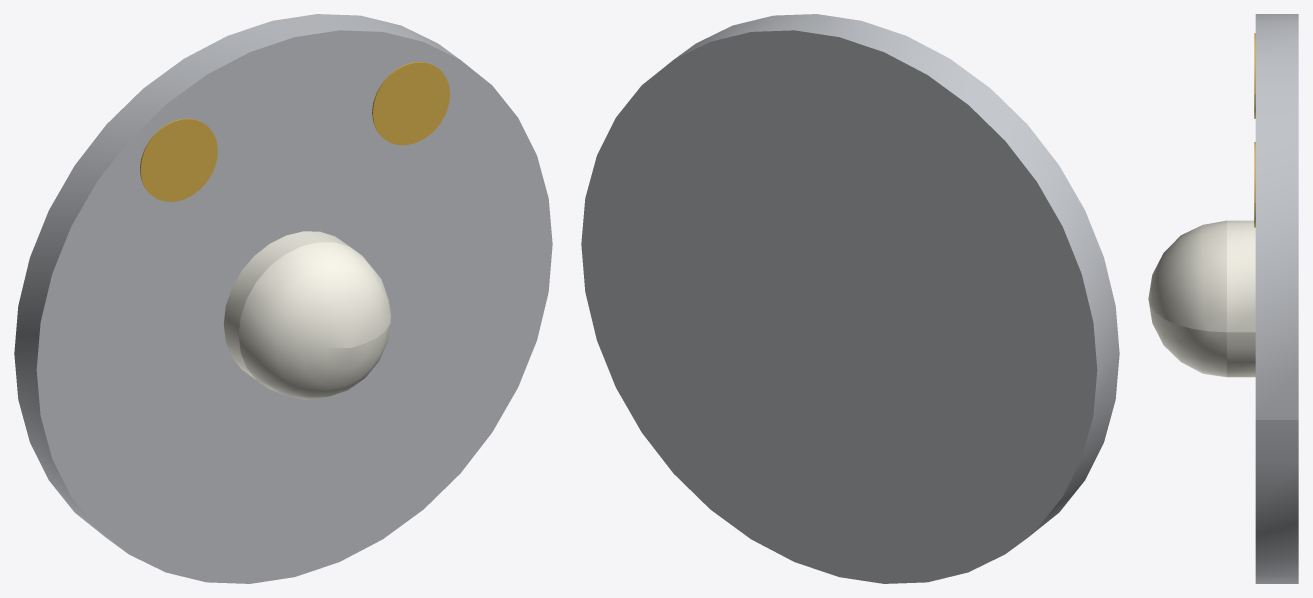
Rendered from led-1w-white.glb.
3 views of the same model, side by side, from view 1: azimuth 30°, elevation 25°; view 2: azimuth 150°, elevation 25°; view 3: azimuth 270°, elevation 25° (orthographic). The views are drawn at different scales.
Visible parts, largest first — view 1: board, dome_1, pads_2_1, pads_2_2; view 2: board; view 3: board, dome_1.
Part boxes in pixels (<box>): board: <box>14,14,552,583</box>; dome_1: <box>223,231,391,399</box>; pads_2_1: <box>140,118,217,201</box>; pads_2_2: <box>372,62,450,145</box>; board: <box>581,14,1119,583</box>; board: <box>1255,14,1298,583</box>; dome_1: <box>1148,220,1255,377</box>.
Size of the model in its own units: 20 by 20 by 5.25.
